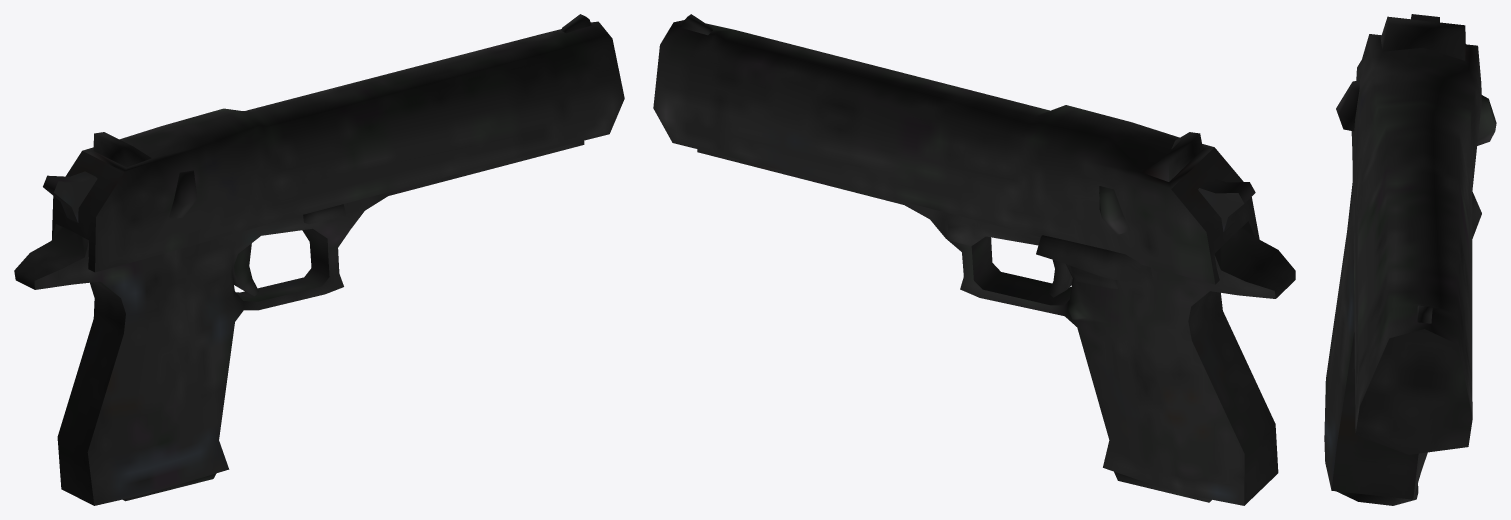
Rendered from blackwidow_gun.glb.
The picture shows the model from 3 angles, left to right: view 1: azimuth 30°, elevation 25°; view 2: azimuth 150°, elevation 25°; view 3: azimuth 270°, elevation 25°; orthographic projection. The views are drawn at different scales.
Parts seen in each view (by area): view 1: weapons/blackwidow_gun_0; view 2: weapons/blackwidow_gun_0; view 3: weapons/blackwidow_gun_0.
Boxes of the visible parts, bbox=[...] form: weapons/blackwidow_gun_0: bbox=[14, 14, 624, 505]; weapons/blackwidow_gun_0: bbox=[653, 14, 1295, 505]; weapons/blackwidow_gun_0: bbox=[1324, 14, 1496, 505].
Bounding box in the file's own units: 2 × 1.15 × 0.3966.
1 material, 1 textured.
